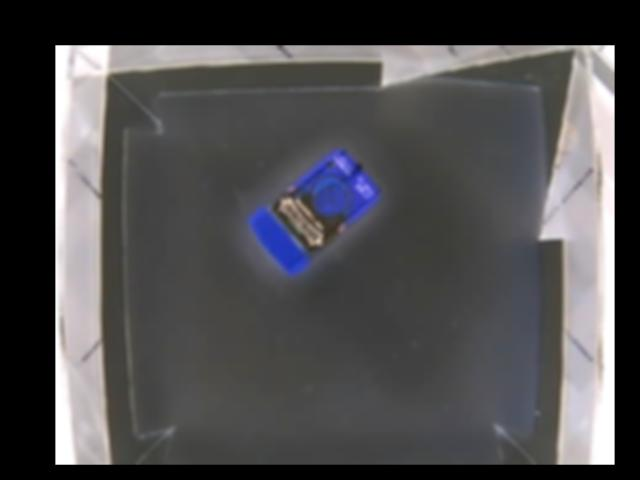Bottle: (250, 145, 383, 275)
